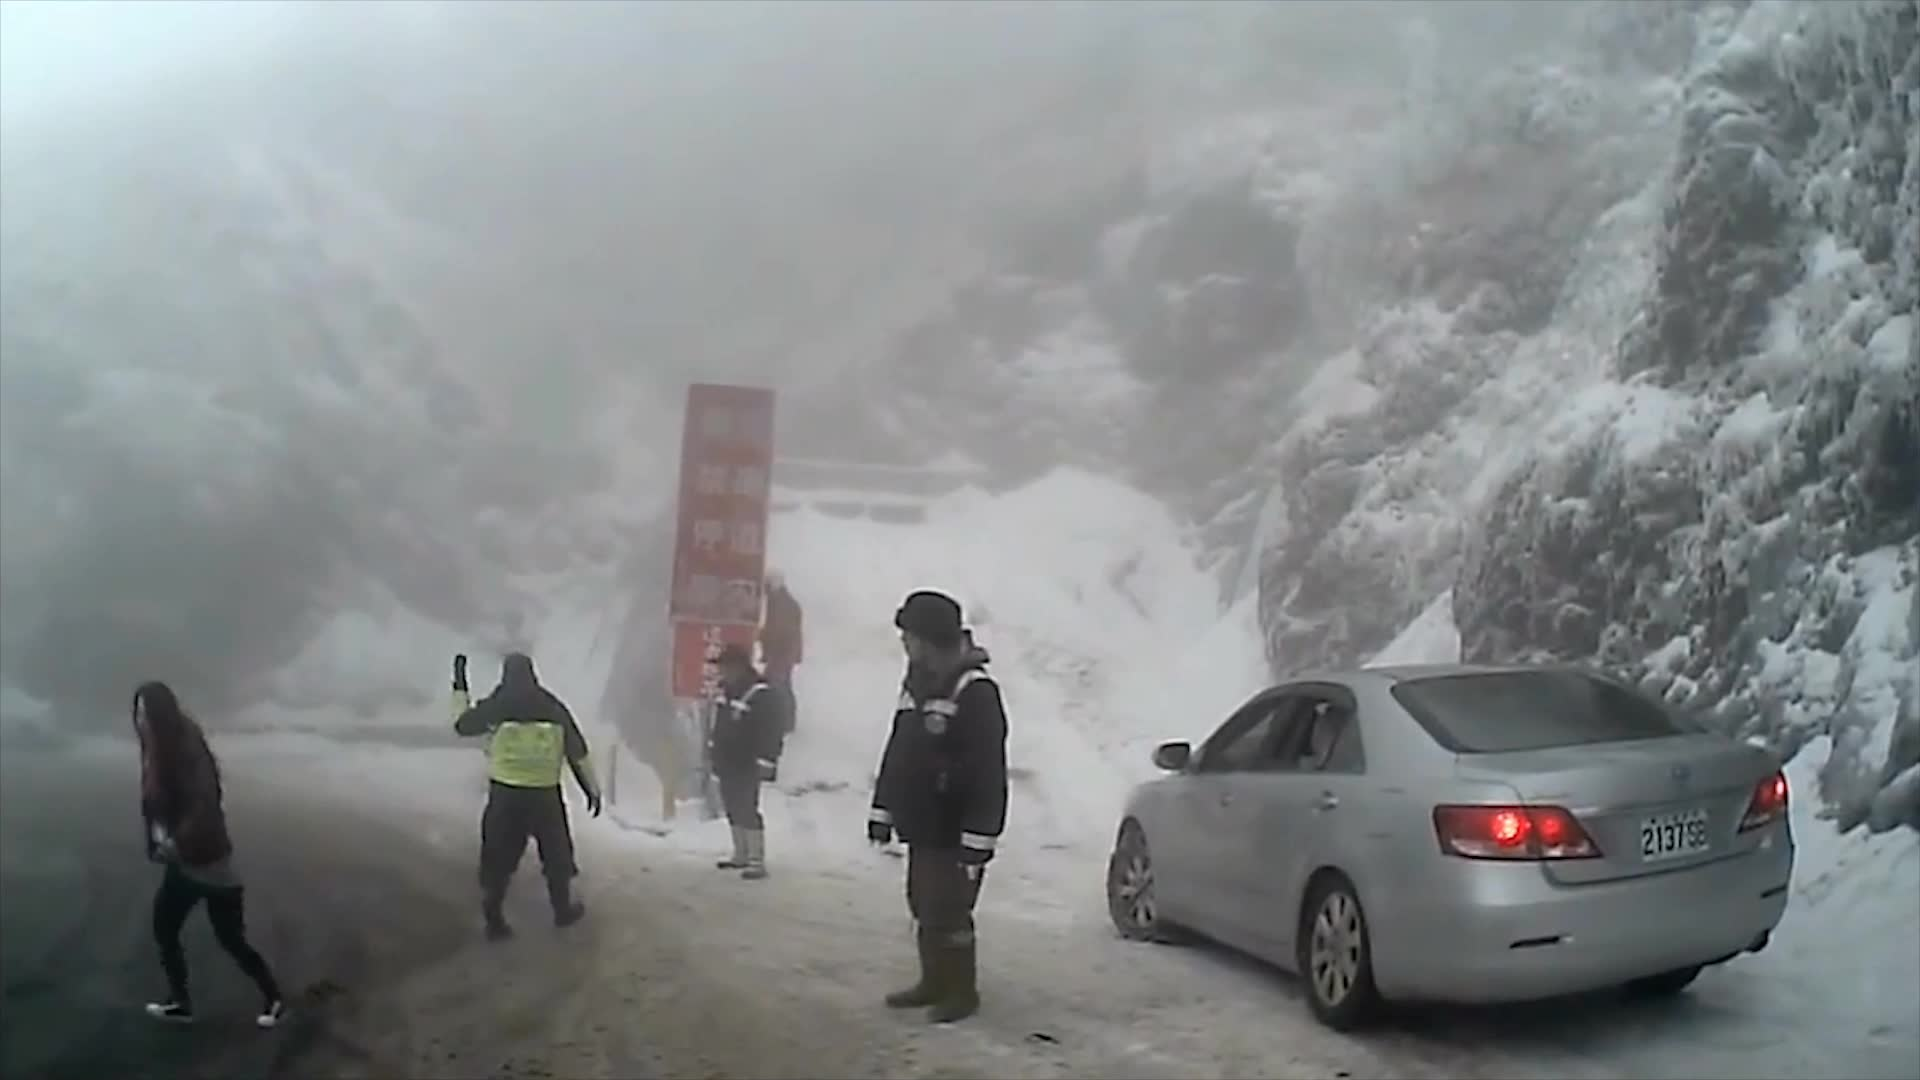pedestrian: (869, 585, 1021, 1025), (143, 687, 293, 1031), (451, 655, 597, 937), (707, 640, 791, 880), (744, 565, 811, 737)
vehicle: (1107, 658, 1795, 1025)
